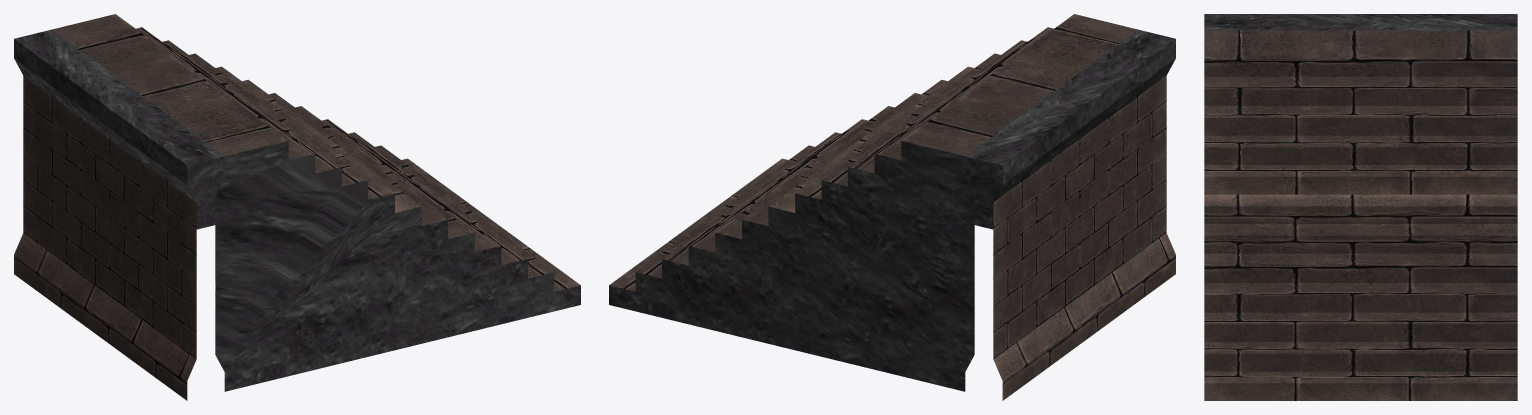
File: Bk_StairsUp.glb
The picture shows the model from 3 angles, left to right: view 1: azimuth 30°, elevation 25°; view 2: azimuth 150°, elevation 25°; view 3: azimuth 270°, elevation 25°; orthographic projection. The views are drawn at different scales.
Parts seen in each view (by area): view 1: Bk_StairsUp; view 2: Bk_StairsUp; view 3: Bk_StairsUp.
Boxes of the visible parts, left/top/right/bottom form: Bk_StairsUp: left=14, top=14, right=580, bottom=400; Bk_StairsUp: left=609, top=14, right=1175, bottom=400; Bk_StairsUp: left=1204, top=14, right=1517, bottom=400.
Size of the model in its own units: 5.25 by 3 by 4.
Materials: 1 (1 with a texture image).
